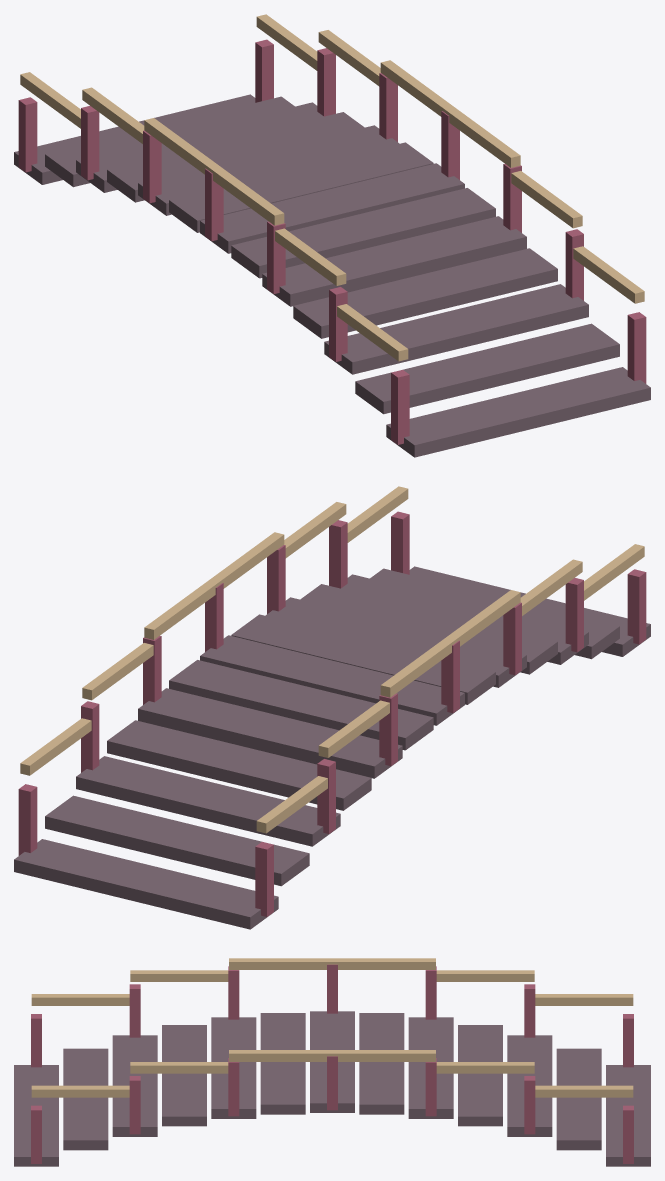
File: moonfall_arch_bridge_lod0.glb
3 views of the same model, one above another, from view 1: azimuth 30°, elevation 25°; view 2: azimuth 150°, elevation 25°; view 3: azimuth 270°, elevation 25° (orthographic). The views are drawn at different scales.
Parts seen in each view (by area): view 1: moonfall_arch_bridge_012, moonfall_arch_bridge_011, moonfall_arch_bridge_009, moonfall_arch_bridge_010, moonfall_arch_bridge_008, moonfall_arch_bridge_007, moonfall_arch_bridge_006, moonfall_arch_bridge_005, moonfall_arch_bridge_004, moonfall_arch_bridge_003, moonfall_arch_bridge_002, moonfall_arch_bridge_001 (+27 smaller); view 2: moonfall_arch_bridge_000, moonfall_arch_bridge_001, moonfall_arch_bridge_002, moonfall_arch_bridge_003, moonfall_arch_bridge_004, moonfall_arch_bridge_005, moonfall_arch_bridge_006, moonfall_arch_bridge_007, moonfall_arch_bridge_008, moonfall_arch_bridge_009, moonfall_arch_bridge_010, moonfall_arch_bridge_011 (+27 smaller); view 3: moonfall_arch_bridge_001, moonfall_arch_bridge_011, moonfall_arch_bridge_005, moonfall_arch_bridge_007, moonfall_arch_bridge_003, moonfall_arch_bridge_009, moonfall_arch_bridge_000, moonfall_arch_bridge_012, moonfall_arch_bridge_004, moonfall_arch_bridge_008, moonfall_arch_bridge_002, moonfall_arch_bridge_010 (+27 smaller).
Boxes of the visible parts, bbox=[...] form: moonfall_arch_bridge_012: bbox=[386, 367, 650, 457]; moonfall_arch_bridge_011: bbox=[355, 323, 619, 414]; moonfall_arch_bridge_009: bbox=[293, 248, 557, 338]; moonfall_arch_bridge_010: bbox=[324, 284, 588, 374]; moonfall_arch_bridge_008: bbox=[262, 216, 526, 306]; moonfall_arch_bridge_007: bbox=[231, 188, 495, 278]; moonfall_arch_bridge_006: bbox=[200, 163, 464, 253]; moonfall_arch_bridge_005: bbox=[169, 142, 433, 232]; moonfall_arch_bridge_004: bbox=[138, 125, 399, 215]; moonfall_arch_bridge_003: bbox=[107, 112, 364, 202]; moonfall_arch_bridge_002: bbox=[76, 102, 323, 192]; moonfall_arch_bridge_001: bbox=[45, 96, 294, 187]; moonfall_arch_bridge_000: bbox=[14, 839, 278, 929]; moonfall_arch_bridge_001: bbox=[45, 795, 309, 886]; moonfall_arch_bridge_002: bbox=[76, 756, 340, 846]; moonfall_arch_bridge_003: bbox=[107, 720, 371, 810]; moonfall_arch_bridge_004: bbox=[138, 688, 402, 778]; moonfall_arch_bridge_005: bbox=[169, 660, 433, 750]; moonfall_arch_bridge_006: bbox=[200, 635, 464, 725]; moonfall_arch_bridge_007: bbox=[231, 614, 495, 704]; moonfall_arch_bridge_008: bbox=[265, 597, 526, 687]; moonfall_arch_bridge_009: bbox=[300, 584, 557, 674]; moonfall_arch_bridge_010: bbox=[341, 574, 588, 664]; moonfall_arch_bridge_011: bbox=[370, 568, 619, 659]; moonfall_arch_bridge_001: bbox=[556, 1048, 601, 1150]; moonfall_arch_bridge_011: bbox=[63, 1048, 108, 1150]; moonfall_arch_bridge_005: bbox=[359, 1013, 404, 1114]; moonfall_arch_bridge_007: bbox=[260, 1013, 305, 1114]; moonfall_arch_bridge_003: bbox=[458, 1025, 502, 1126]; moonfall_arch_bridge_009: bbox=[162, 1025, 206, 1126]; moonfall_arch_bridge_000: bbox=[606, 1065, 650, 1166]; moonfall_arch_bridge_012: bbox=[14, 1065, 58, 1166]; moonfall_arch_bridge_004: bbox=[408, 1017, 453, 1118]; moonfall_arch_bridge_008: bbox=[211, 1017, 256, 1118]; moonfall_arch_bridge_002: bbox=[507, 1035, 552, 1136]; moonfall_arch_bridge_010: bbox=[112, 1035, 157, 1136].
Size of the model in its own units: 4.62 by 2.57 by 12.91.
